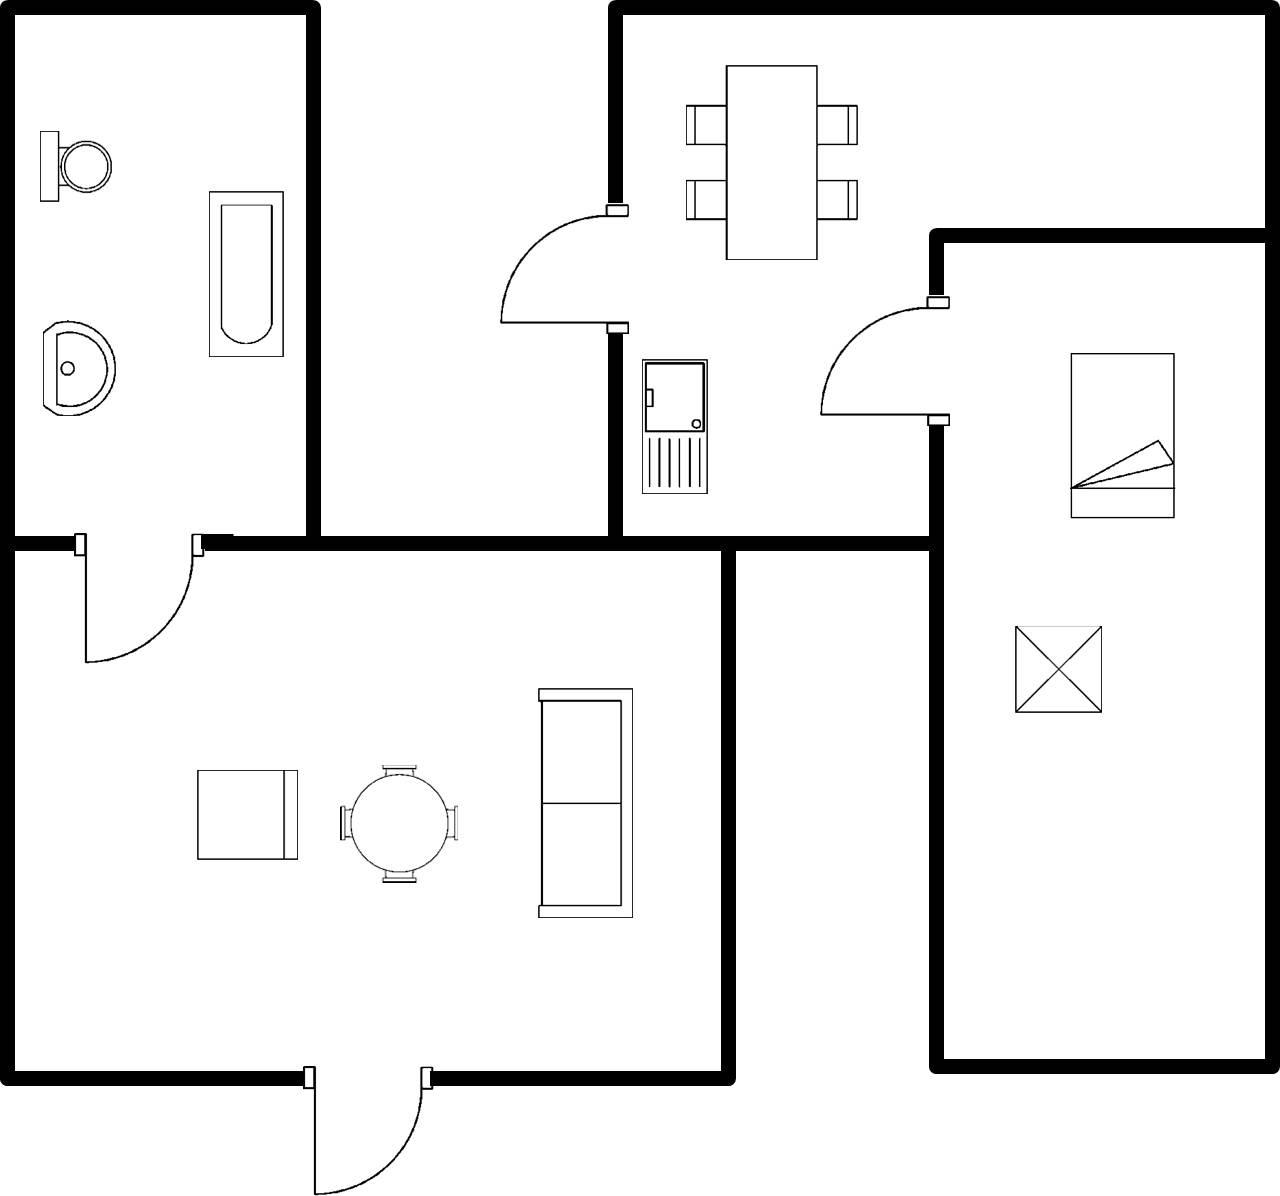bed: (1060, 343, 1189, 527)
dining_table: (675, 53, 869, 270)
round_table: (329, 754, 470, 894)
sink: (639, 351, 718, 502)
sofa: (529, 678, 646, 928)
toilet: (33, 119, 122, 218)
tub: (199, 179, 293, 366)
